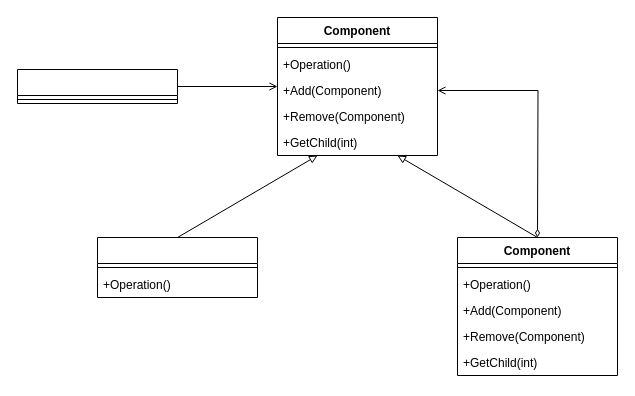
This 635x396 diagram has some shape labels left out. Each missing label, with the box of its shape:
Client: (16, 68, 178, 104)
Leaf: (96, 236, 258, 298)
